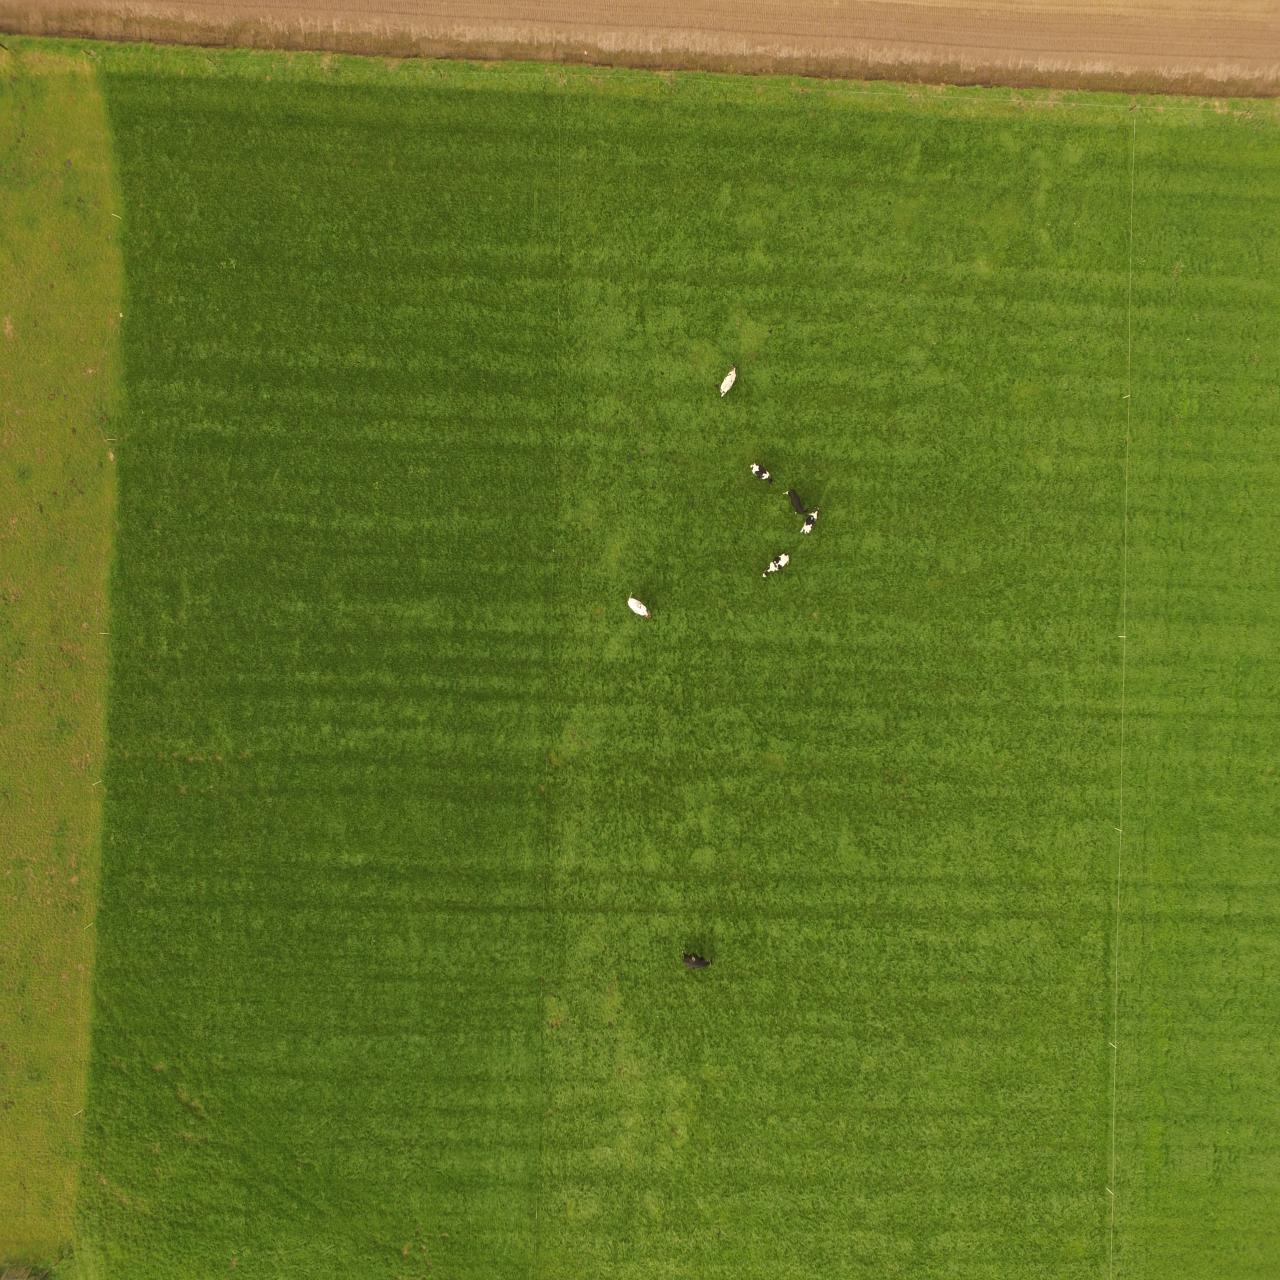cow: (755, 549, 790, 580), (678, 947, 715, 973), (801, 502, 823, 542), (625, 588, 651, 621), (715, 361, 738, 396), (783, 485, 805, 516), (749, 461, 775, 485)
